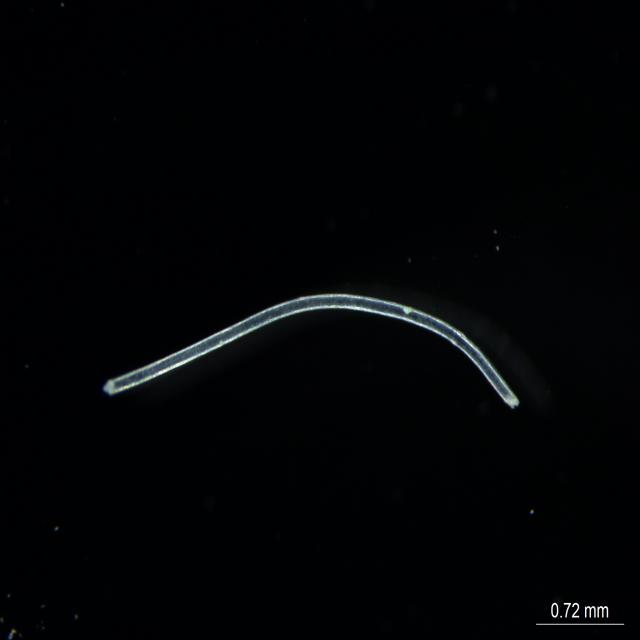fibers: (102, 284, 524, 412)
